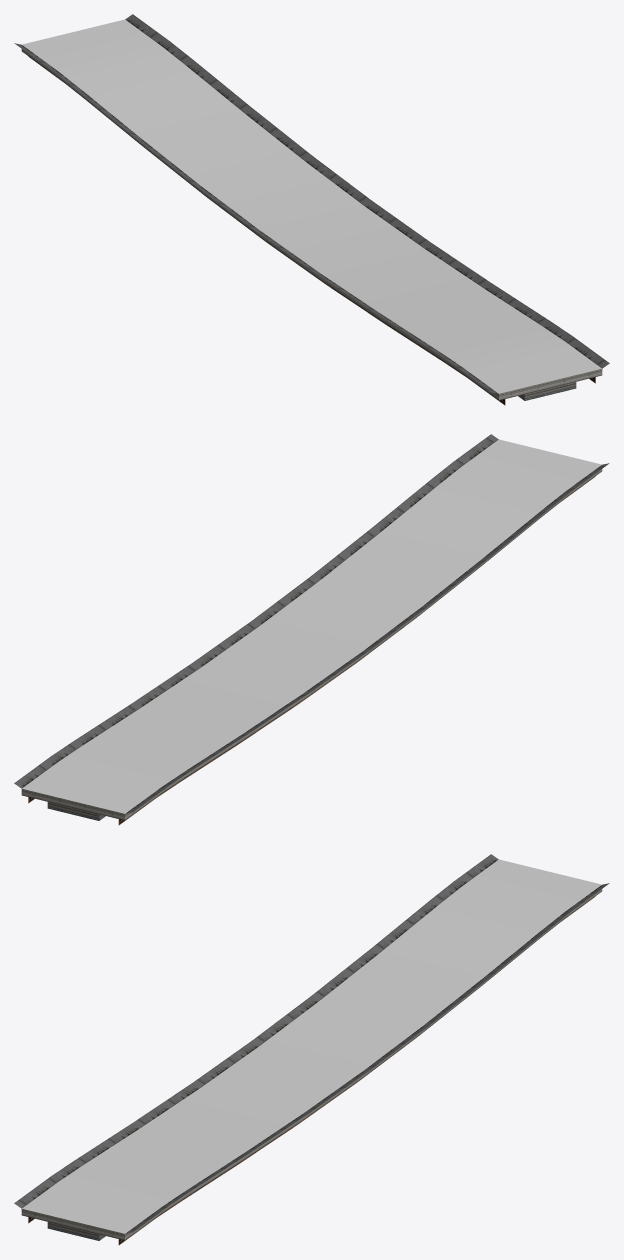
File: StrDip.fbx
3 views of the same model, one above another, from view 1: azimuth 30°, elevation 25°; view 2: azimuth 150°, elevation 25°; view 3: azimuth 330°, elevation 25° (orthographic).
Visible parts, largest first — view 1: Empty_Mesh; view 2: Empty_Mesh; view 3: Empty_Mesh.
Part boxes in pixels (x1,y1,x2,y2): Empty_Mesh: (14,14,609,405); Empty_Mesh: (14,434,609,825); Empty_Mesh: (14,854,609,1245).
Size of the model in its own units: 18.4 by 4.2 by 128.
